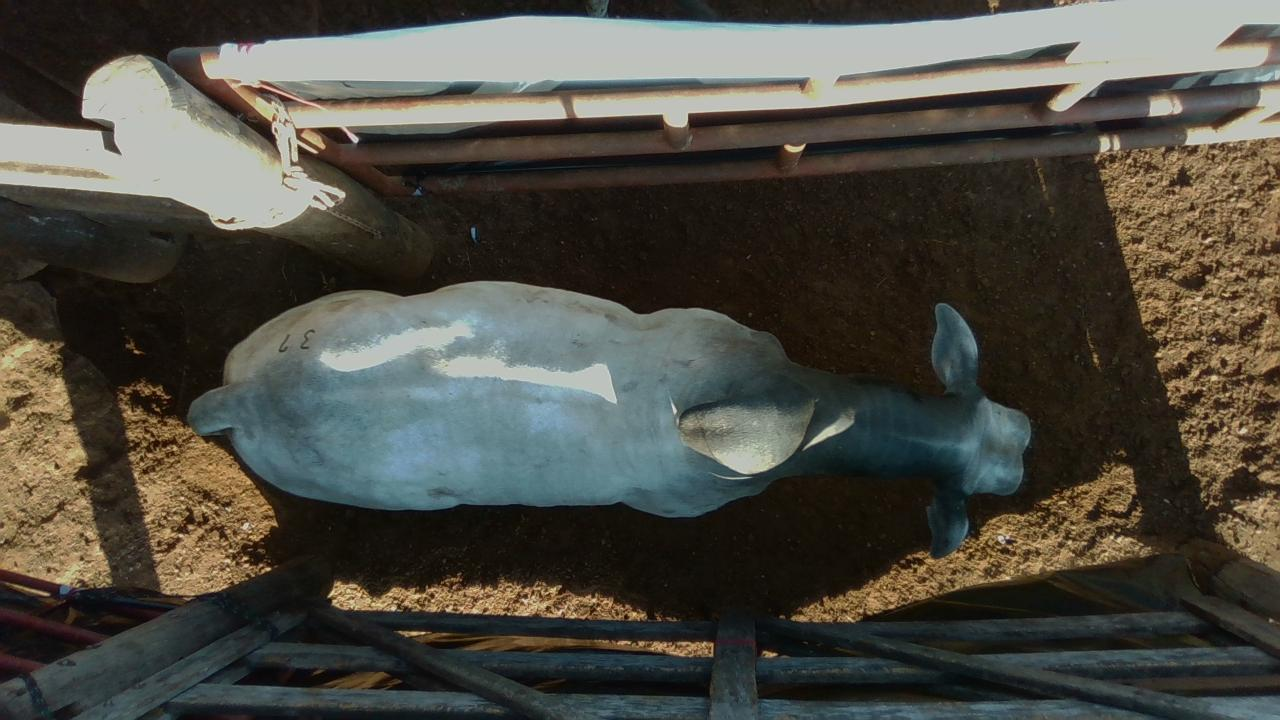cattle: (185, 278, 1032, 559)
